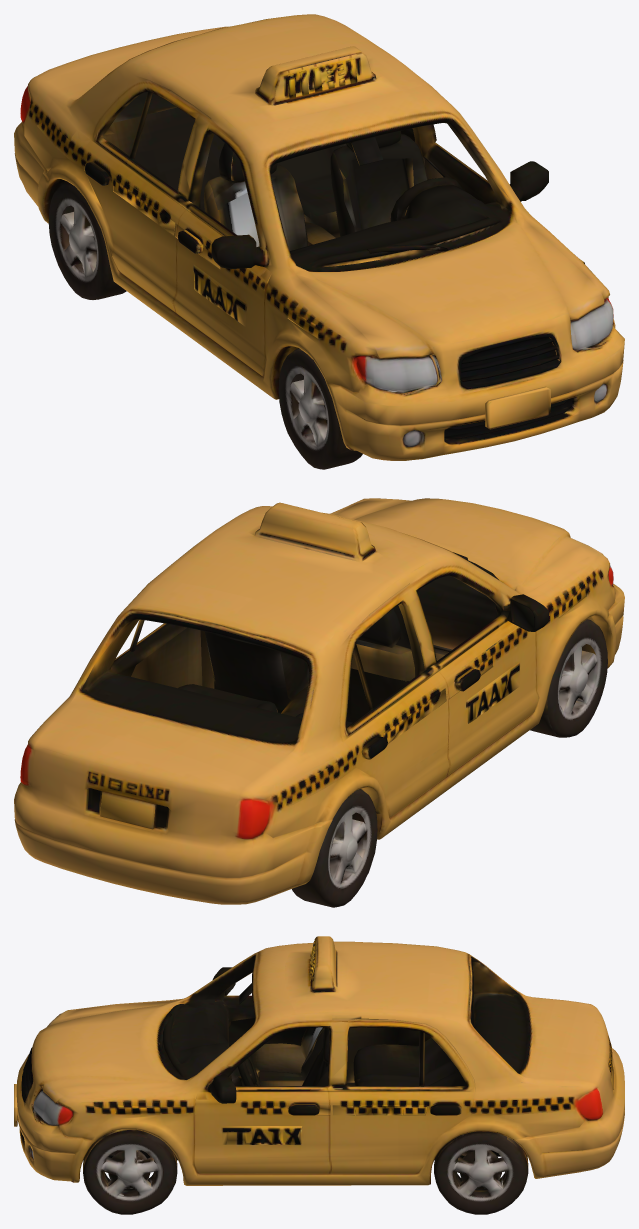
File: a_taxi_cab_88be8bf6_v1.glb
The picture shows the model from 3 angles, top to bottom: view 1: azimuth 30°, elevation 25°; view 2: azimuth 150°, elevation 25°; view 3: azimuth 270°, elevation 25°; orthographic projection. The views are drawn at different scales.
Visible parts, largest first — view 1: material; view 2: material; view 3: material.
Part boxes in pixels (bbox=[...]): material: bbox=[14, 14, 624, 469]; material: bbox=[14, 498, 624, 907]; material: bbox=[14, 936, 624, 1214].
Bounding box in the file's own units: 0.908 × 0.7382 × 1.9.
1 material, 1 textured.
